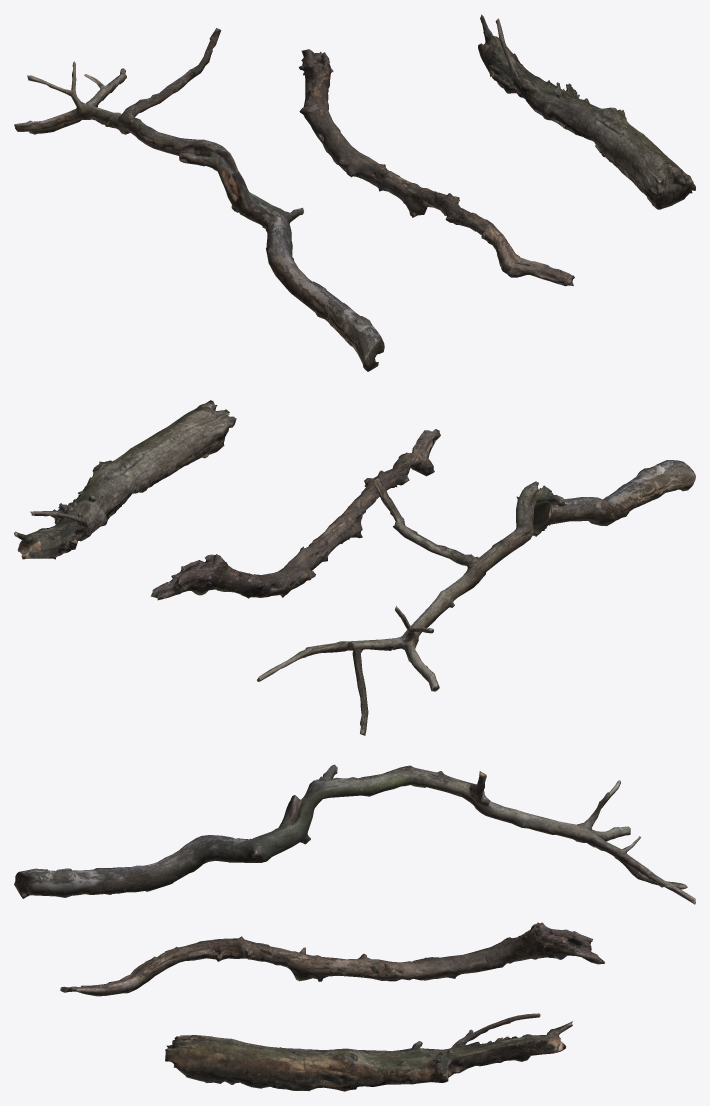
Rendered from dry_branches_medium_01.glb.
3 renders of one model, top to bottom at view 1: azimuth 30°, elevation 25°; view 2: azimuth 150°, elevation 25°; view 3: azimuth 270°, elevation 25°, orthographic. The views are drawn at different scales.
Visible parts, largest first — view 1: dry_branches_medium_01_a, dry_branches_medium_01_c, dry_branches_medium_01_b; view 2: dry_branches_medium_01_a, dry_branches_medium_01_c, dry_branches_medium_01_b; view 3: dry_branches_medium_01_a, dry_branches_medium_01_c, dry_branches_medium_01_b.
Boxes of the visible parts, left/top/right/bottom form: dry_branches_medium_01_a: left=14, top=28, right=384, bottom=371; dry_branches_medium_01_c: left=478, top=14, right=695, bottom=209; dry_branches_medium_01_b: left=299, top=49, right=574, bottom=286; dry_branches_medium_01_a: left=257, top=460, right=695, bottom=735; dry_branches_medium_01_c: left=14, top=400, right=236, bottom=559; dry_branches_medium_01_b: left=150, top=429, right=440, bottom=600; dry_branches_medium_01_a: left=14, top=764, right=695, bottom=904; dry_branches_medium_01_c: left=165, top=1013, right=572, bottom=1091; dry_branches_medium_01_b: left=60, top=922, right=604, bottom=996.
Bounding box in the file's own units: 1.06 × 0.341 × 1.3.
Materials: 1 (1 with a texture image).
